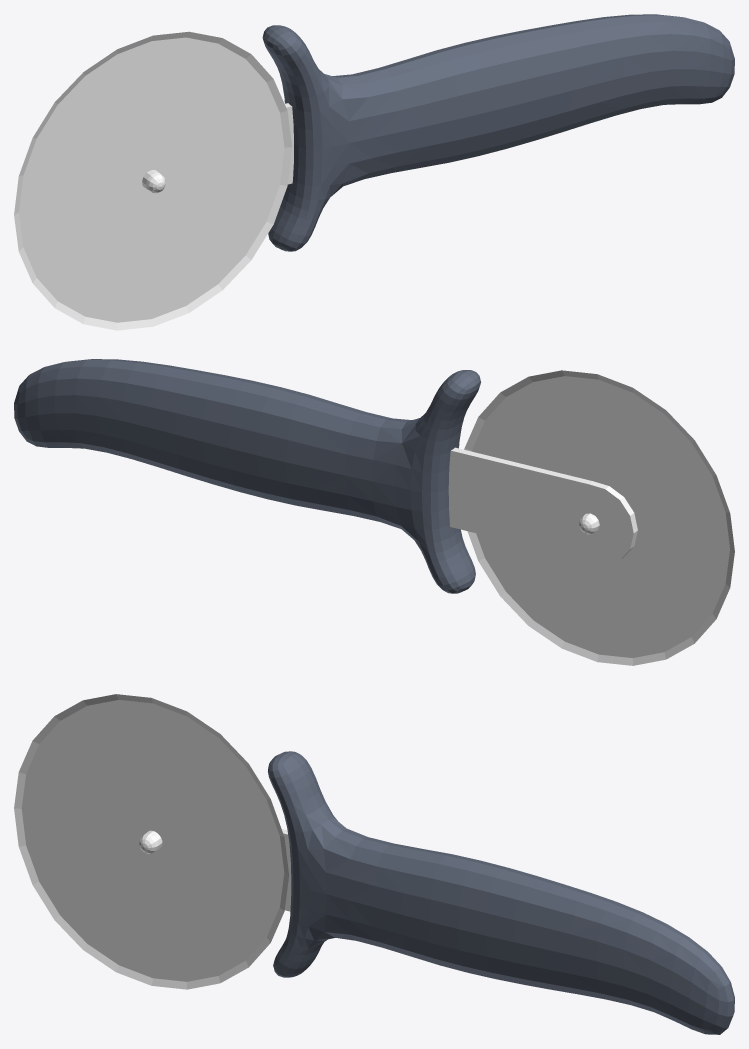
The model's file is faf1d792-9fdf-495a-aa54-808459d344ea.glb.
The picture shows the model from 3 angles, top to bottom: view 1: azimuth 30°, elevation 25°; view 2: azimuth 150°, elevation 25°; view 3: azimuth 330°, elevation 25°; orthographic projection.
Visible parts, largest first — view 1: Lathe, Cube; view 2: Cube, Lathe, Cap_2, Extrude; view 3: Lathe, Cube.
Part boxes in pixels (left/top/right/bottom): Lathe: left=14, top=31, right=292, bottom=330; Cube: left=262, top=14, right=734, bottom=251; Cube: left=14, top=359, right=480, bottom=593; Lathe: left=464, top=370, right=734, bottom=665; Cap_2: left=448, top=450, right=633, bottom=563; Extrude: left=451, top=447, right=637, bottom=558; Lathe: left=14, top=694, right=289, bottom=989; Cube: left=268, top=751, right=734, bottom=1034.
Bounding box in the file's own units: 400 × 154 × 32.53.
